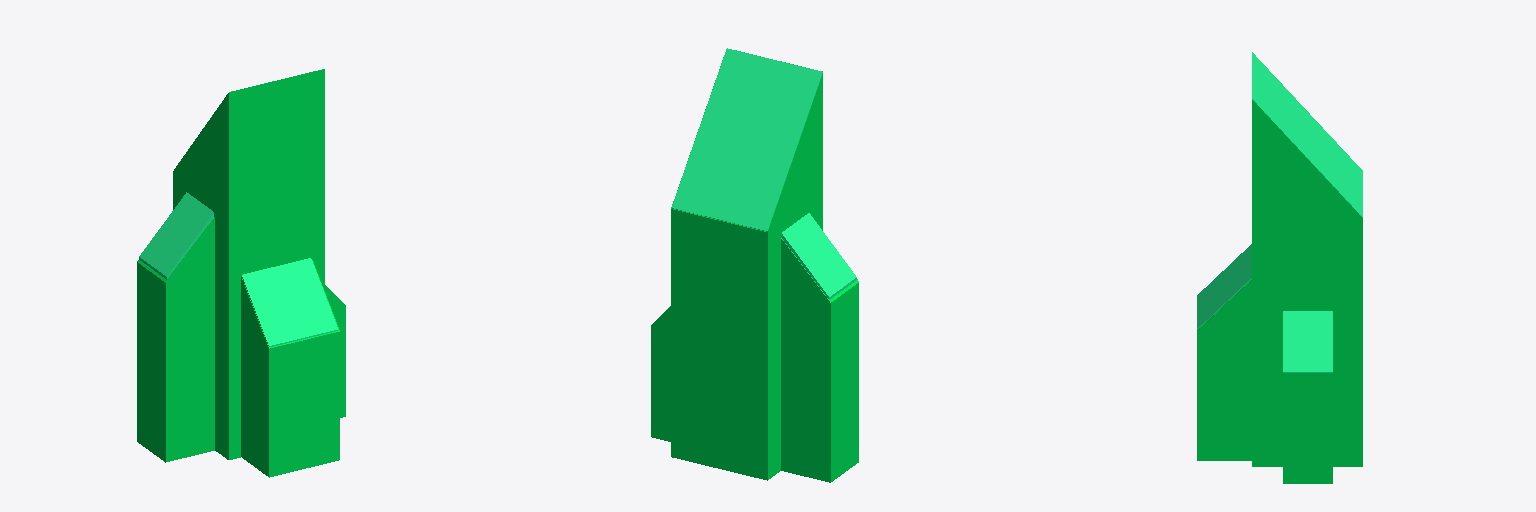
The model's file is MediumCrystal.obj.
The picture shows the model from 3 angles: view 1: azimuth 30°, elevation 25°; view 2: azimuth 150°, elevation 25°; view 3: azimuth 270°, elevation 25°; orthographic projection.
Visible parts, largest first — view 1: Invisipart8, Invisipart7, Invisipart5, Invisipart6, Invisipart1, Invisipart2; view 2: Invisipart8, Invisipart3, Invisipart7, Invisipart1, Invisipart2; view 3: Invisipart8, Invisipart5, Invisipart2, Invisipart3, Invisipart4, Invisipart6.
Part boxes in pixels (bbox=[...]): Invisipart8: bbox=[173, 69, 324, 459]; Invisipart7: bbox=[137, 217, 214, 462]; Invisipart5: bbox=[241, 260, 339, 477]; Invisipart6: bbox=[242, 258, 337, 346]; Invisipart1: bbox=[139, 192, 213, 279]; Invisipart2: bbox=[325, 285, 345, 417]; Invisipart8: bbox=[671, 50, 822, 480]; Invisipart3: bbox=[672, 48, 822, 231]; Invisipart7: bbox=[781, 238, 858, 482]; Invisipart1: bbox=[782, 213, 856, 299]; Invisipart2: bbox=[651, 306, 670, 441]; Invisipart8: bbox=[1252, 99, 1362, 466]; Invisipart5: bbox=[1197, 280, 1251, 460]; Invisipart2: bbox=[1283, 373, 1332, 483]; Invisipart3: bbox=[1252, 52, 1362, 217]; Invisipart4: bbox=[1283, 311, 1332, 372]; Invisipart6: bbox=[1197, 244, 1251, 329].
Size of the model in its own units: 5.26 by 10.17 by 4.18.